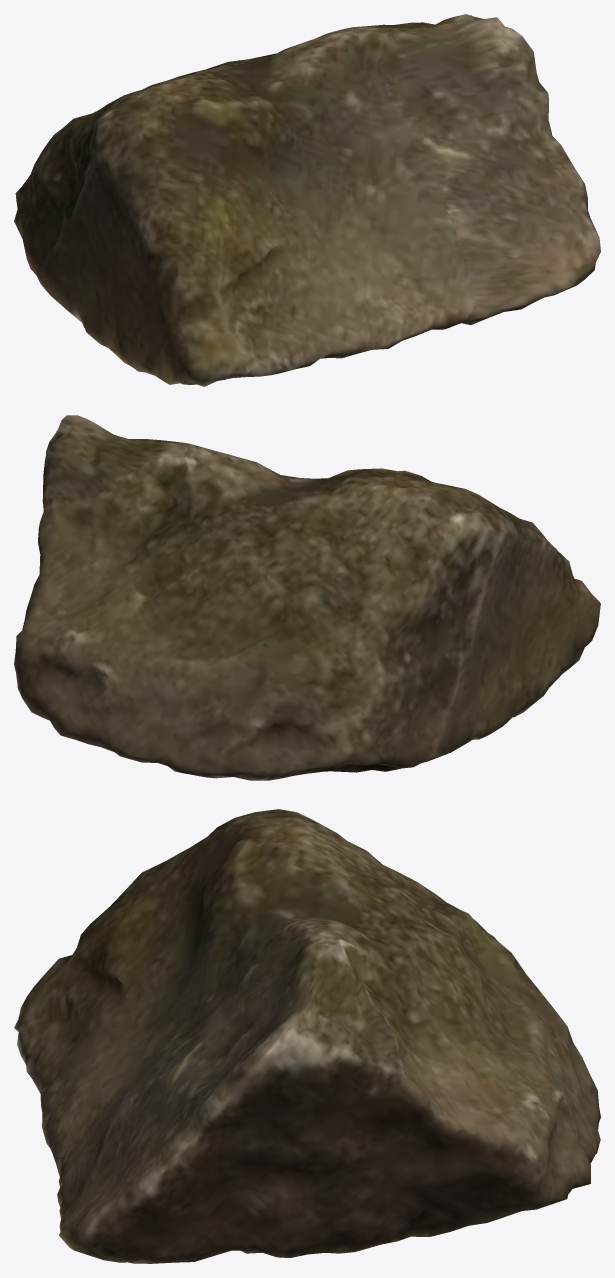
The model's file is MossRock_b.glb.
3 views of the same model, one above another, from view 1: azimuth 30°, elevation 25°; view 2: azimuth 150°, elevation 25°; view 3: azimuth 270°, elevation 25° (orthographic). The views are drawn at different scales.
Parts seen in each view (by area): view 1: rock_moss_set_01_rock03; view 2: rock_moss_set_01_rock03; view 3: rock_moss_set_01_rock03.
Part boxes in pixels (left/top/right/bottom): rock_moss_set_01_rock03: left=14, top=14, right=600, bottom=386; rock_moss_set_01_rock03: left=14, top=415, right=600, bottom=780; rock_moss_set_01_rock03: left=14, top=809, right=600, bottom=1263.
Bounding box in the file's own units: 2.11 × 1.1 × 2.08.
1 material, 1 textured.
